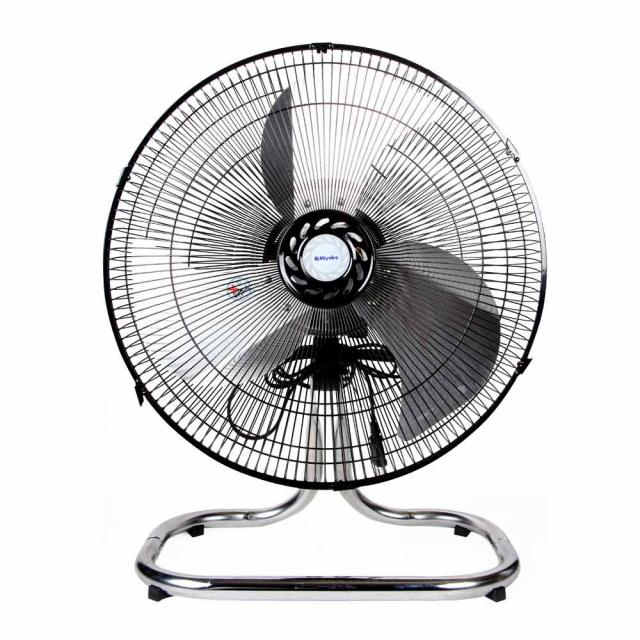fan: (99, 39, 546, 614)
